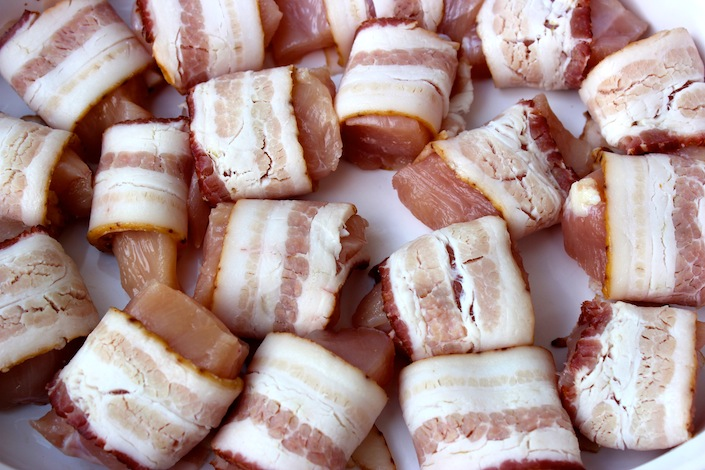bacon: (42, 301, 531, 470), (560, 59, 705, 413), (363, 205, 541, 353), (188, 61, 345, 197)
